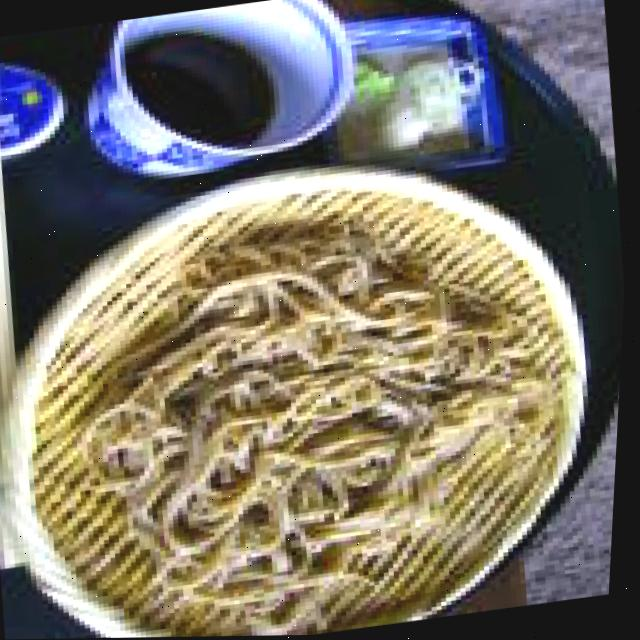面条主食: (0, 114, 635, 640)
